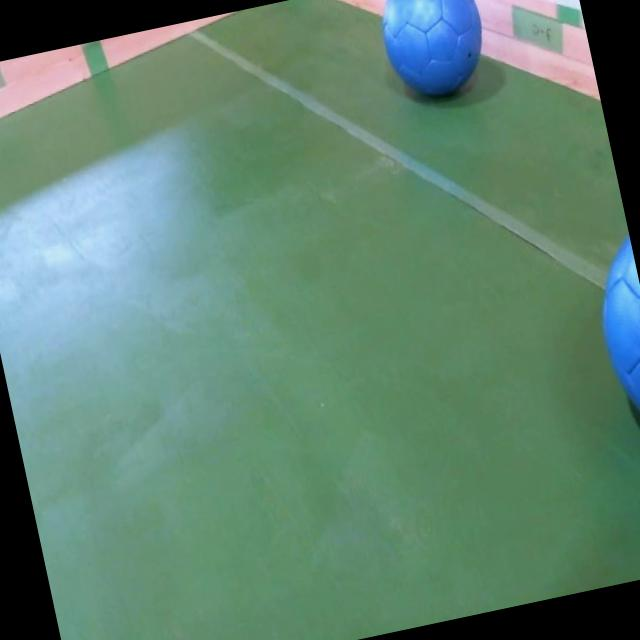blue_ball: (369, 0, 496, 108), (583, 228, 640, 450)
